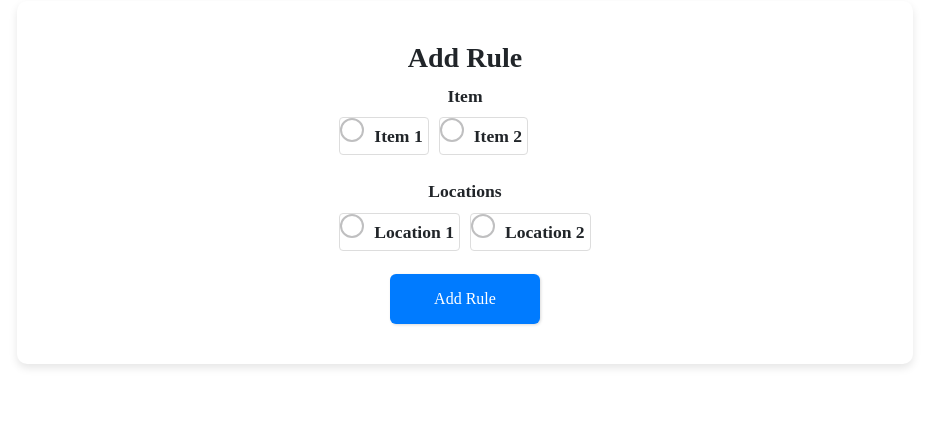
Test: AddRule Component › displays error message when adding a rule fails
The image size is (931, 442).
Click the checkbox labelled "Item 1" at (352, 130), box [340, 118, 364, 142]
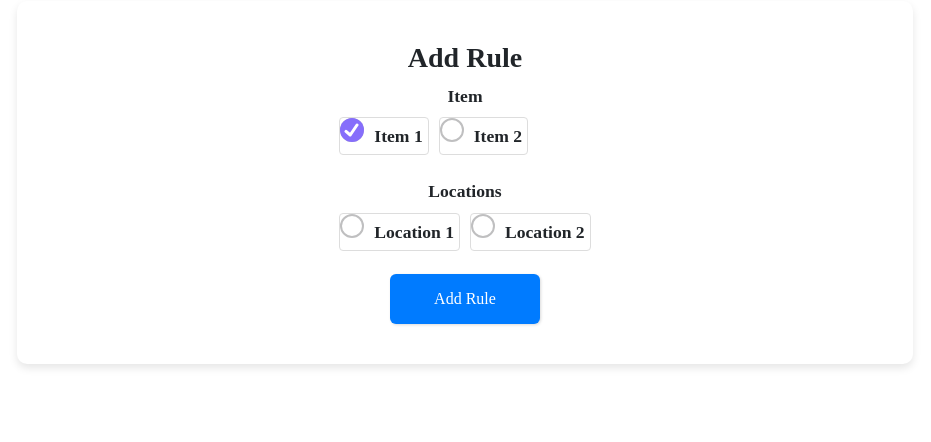
Click the checkbox labelled "Location 1" at (352, 226), box [340, 214, 364, 238]
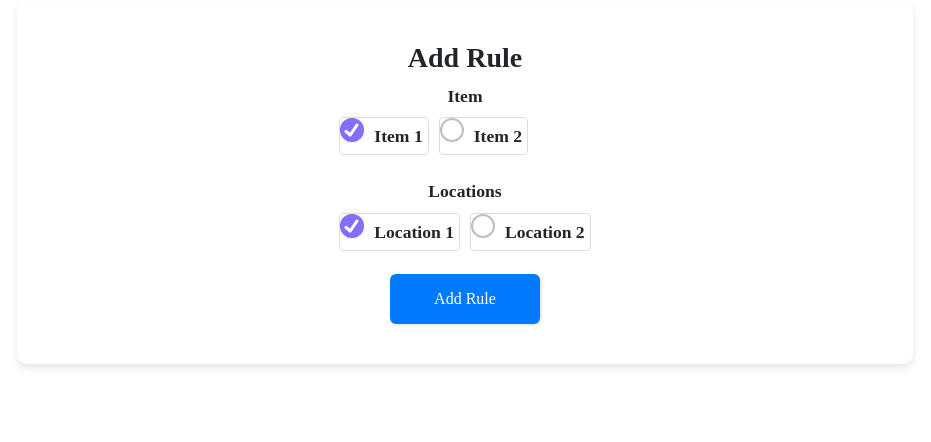
Submit the form from the button "Add Rule", box [390, 274, 540, 324]
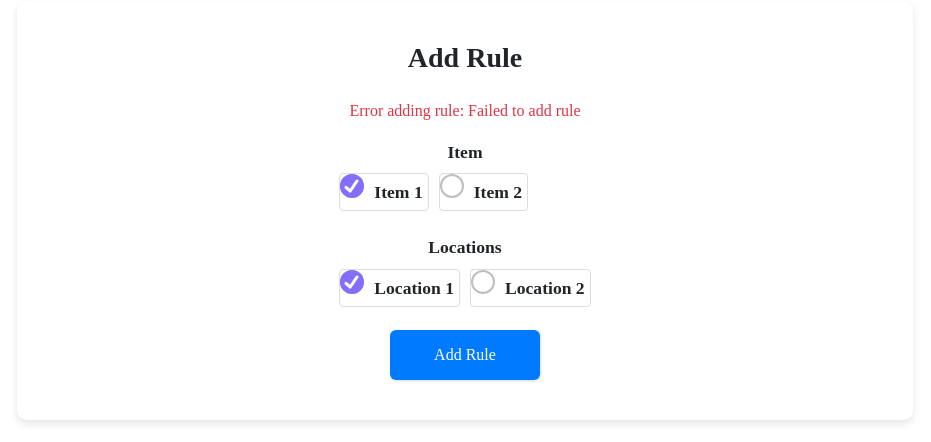
Check: the text "Error adding rule: Failed to add rule" is shown, box [350, 99, 580, 123]
